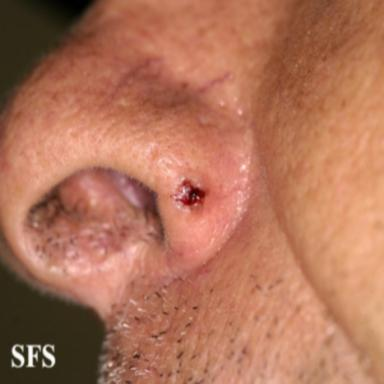basal-cell-carcinoma: (172, 176, 214, 213)
